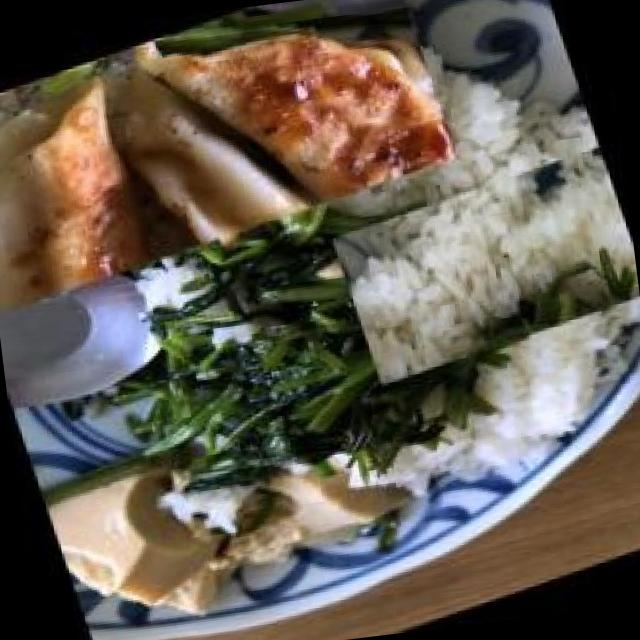fried_dumplings: (0, 0, 472, 319)
rice: (354, 94, 640, 421)
water_spinach: (104, 176, 508, 518)
